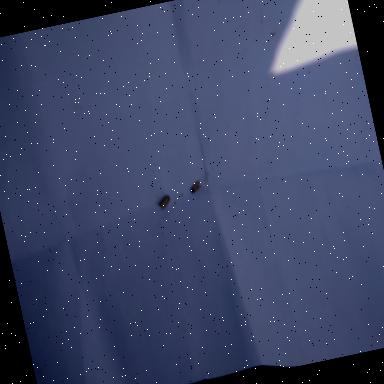pbw: (157, 194, 172, 209), (188, 179, 204, 193)
